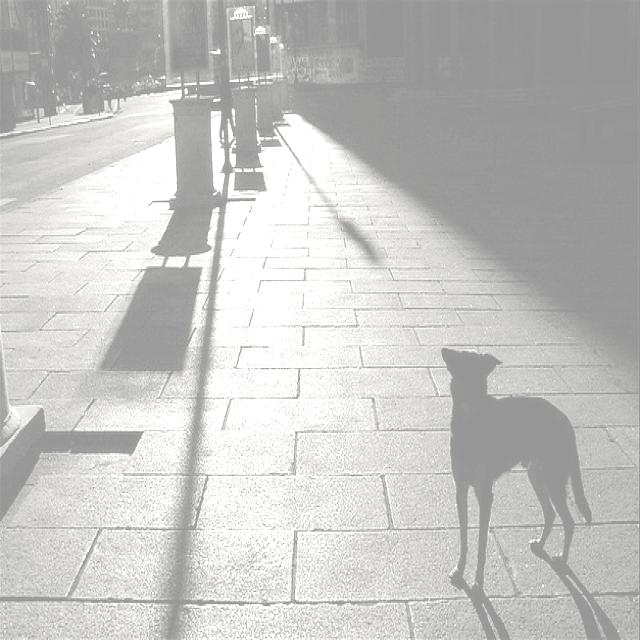Dog: (438, 359, 640, 618)
